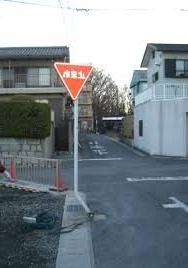Regulatory_sign_triangle: (51, 57, 96, 105)
